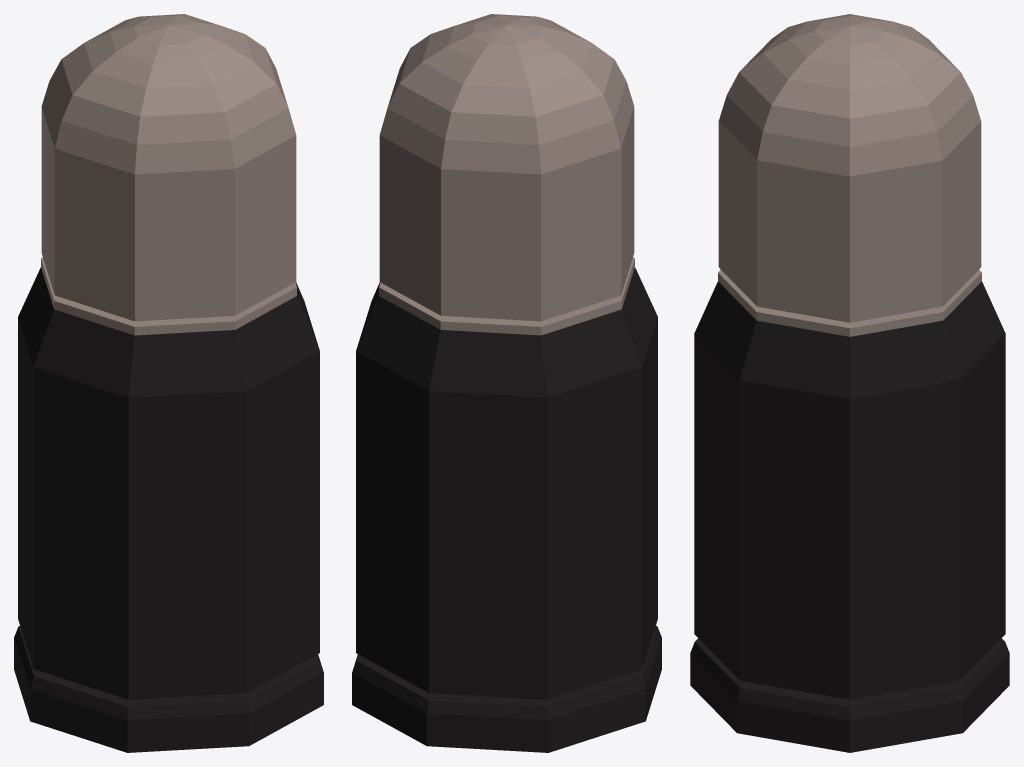
Rendered from robotmaingunbullet.fbx.
3 views of the same model, side by side, from view 1: azimuth 30°, elevation 25°; view 2: azimuth 150°, elevation 25°; view 3: azimuth 270°, elevation 25° (orthographic).
Visible parts, largest first — view 1: Cylinder.070; view 2: Cylinder.070; view 3: Cylinder.070.
Boxes of the visible parts, x1,y1,x2,y2 form: Cylinder.070: [14, 14, 323, 752]; Cylinder.070: [352, 14, 661, 752]; Cylinder.070: [690, 14, 1009, 752].
Bounding box in the file's own units: 0.5696 × 1.3 × 0.5696.
